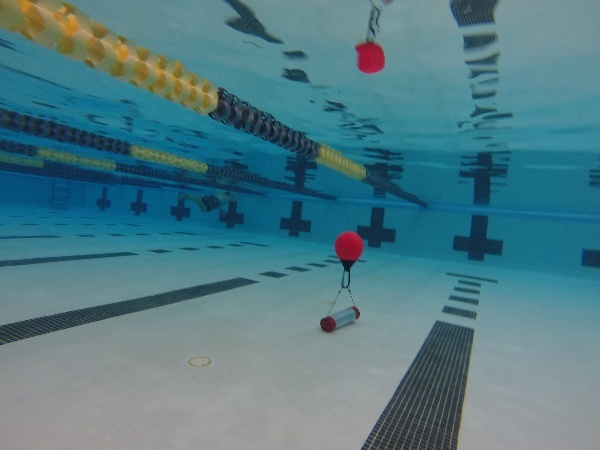buoy_red: (333, 230, 364, 274)
